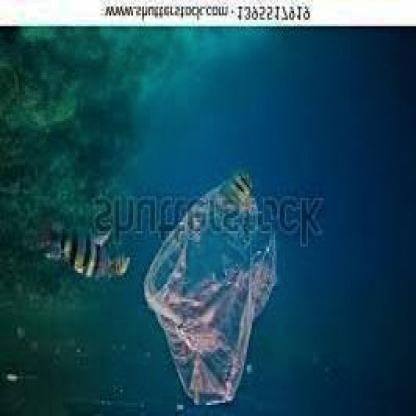pbag: (133, 180, 281, 410)
